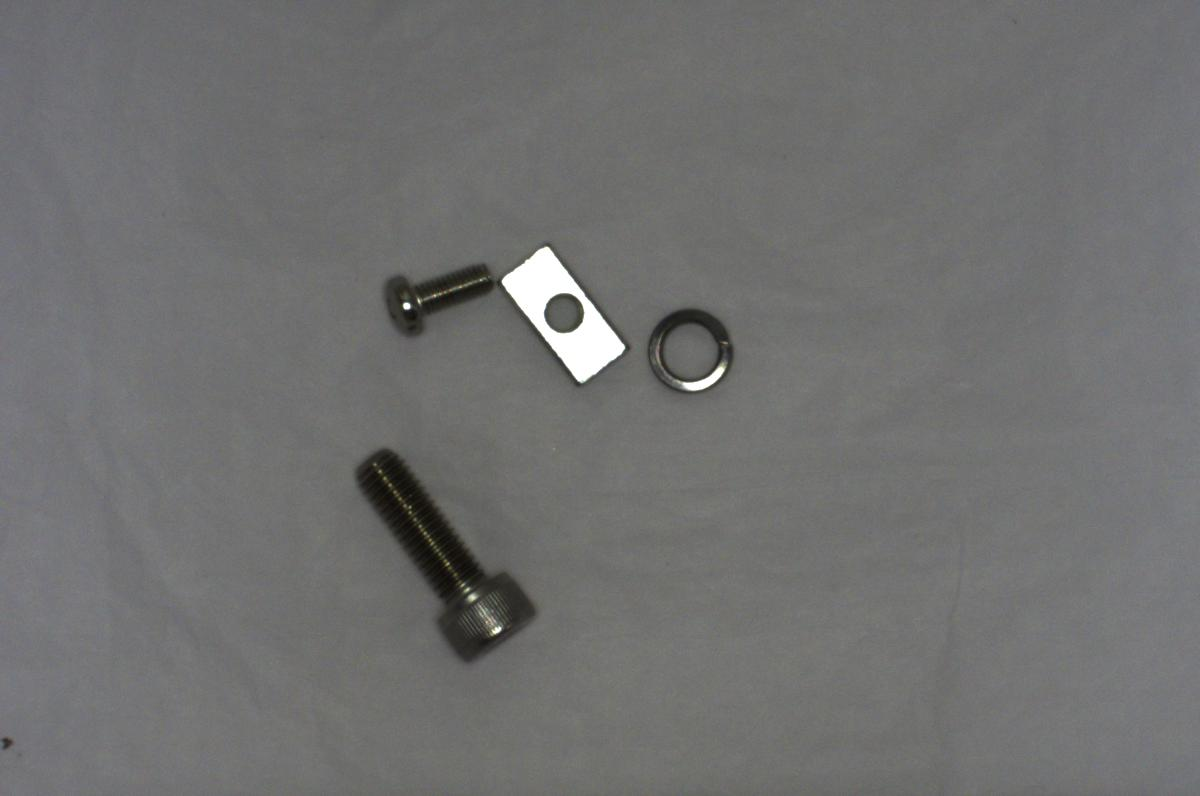Hexagon screw: (348, 433, 535, 666)
Rectangular nut: (505, 239, 627, 381)
Round head screw: (373, 250, 497, 334)
Spring washer: (637, 298, 739, 398)
